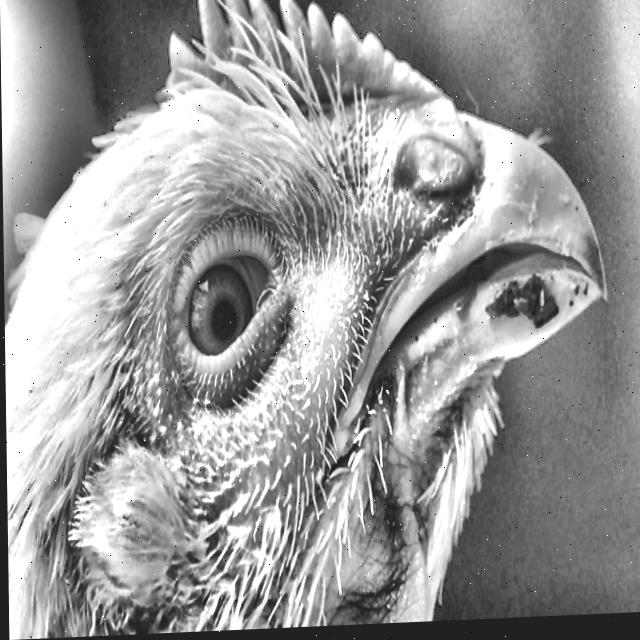Fowl cholera: (272, 16, 583, 447)
